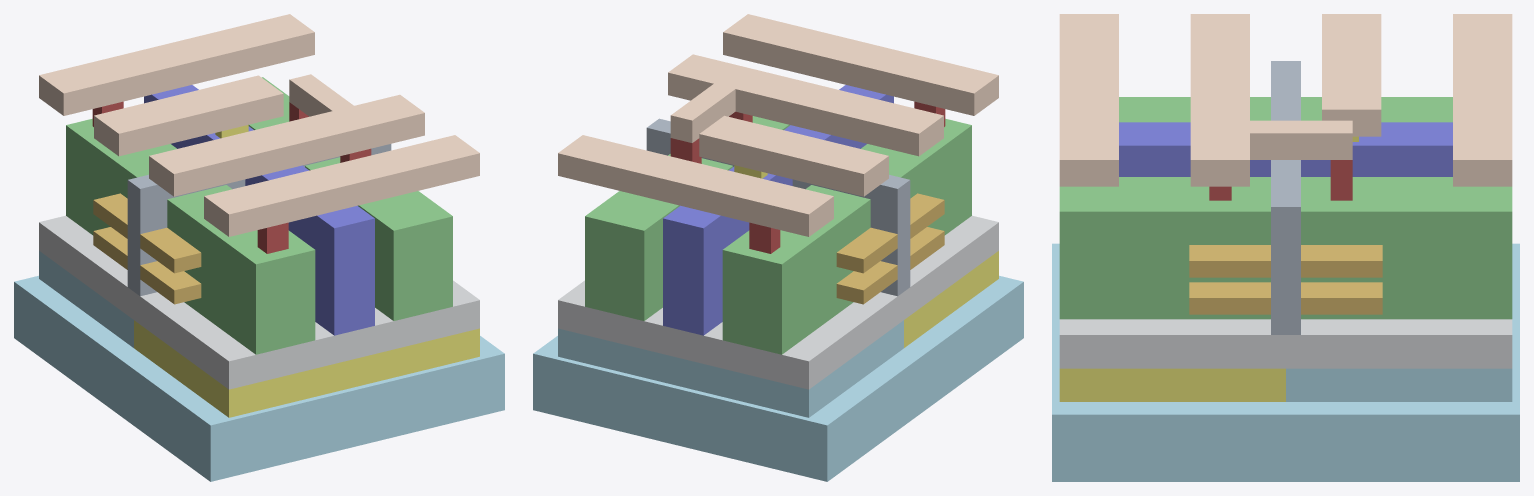
The model's file is show_fs.glb.
3 views of the same model, side by side, from view 1: azimuth 30°, elevation 25°; view 2: azimuth 150°, elevation 25°; view 3: azimuth 270°, elevation 25° (orthographic). The views are drawn at different scales.
Parts seen in each view (by area): view 1: pwell, fox, md_vdd, m0_out, m0_gnd, m0_vdd, nwell, md_out, po, m0_in, md_gnd, wall (+7 smaller); view 2: pwell, fox, md_gnd, m0_gnd, m0_vdd, m0_out, pwell_u, md_out, po, m0_in, md_vdd, wall (+8 smaller); view 3: md_out, pwell, fox, m0_gnd, m0_out, m0_vdd, po, pwell_u, nwell, wall, m0_in, m0_out_jog (+7 smaller).
Boxes of the visible parts, left/top/right/bottom form: pwell: left=14, top=275, right=504, bottom=481; fox: left=39, top=215, right=479, bottom=389; md_vdd: left=167, top=185, right=315, bottom=354; m0_out: left=149, top=94, right=424, bottom=196; m0_gnd: left=39, top=14, right=314, bottom=115; m0_vdd: left=204, top=135, right=479, bottom=236; nwell: left=134, top=320, right=479, bottom=417; md_out: left=248, top=77, right=452, bottom=320; po: left=144, top=85, right=374, bottom=335; m0_in: left=94, top=75, right=283, bottom=156; md_gnd: left=66, top=118, right=176, bottom=235; wall: left=127, top=144, right=391, bottom=296; pwell: left=533, top=275, right=1023, bottom=481; fox: left=558, top=215, right=998, bottom=389; md_gnd: left=722, top=185, right=870, bottom=354; m0_gnd: left=558, top=135, right=833, bottom=236; m0_vdd: left=723, top=14, right=998, bottom=115; m0_out: left=668, top=54, right=943, bottom=156; pwell_u: left=558, top=320, right=903, bottom=417; md_out: left=585, top=116, right=790, bottom=320; po: left=663, top=85, right=893, bottom=335; m0_in: left=699, top=115, right=888, bottom=196; md_vdd: left=861, top=118, right=971, bottom=235; wall: left=646, top=118, right=910, bottom=296; md_out: left=1059, top=177, right=1512, bottom=319; pwell: left=1052, top=243, right=1519, bottom=481; fox: left=1059, top=319, right=1512, bottom=368; m0_gnd: left=1453, top=14, right=1512, bottom=186; m0_out: left=1190, top=14, right=1249, bottom=186; m0_vdd: left=1059, top=14, right=1118, bottom=186; po: left=1119, top=122, right=1452, bottom=176; pwell_u: left=1286, top=368, right=1512, bottom=401; nwell: left=1059, top=368, right=1285, bottom=401; wall: left=1271, top=61, right=1300, bottom=334; m0_in: left=1322, top=14, right=1381, bottom=136; m0_out_jog: left=1250, top=120, right=1352, bottom=159.
Size of the model in its own units: 109 by 92 by 126.
